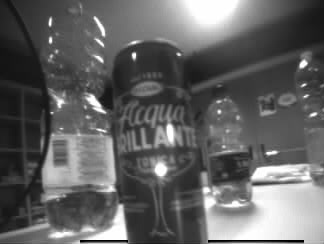Bottle: (35, 1, 117, 230), (206, 85, 254, 206), (295, 52, 324, 179)
Tin can: (109, 39, 212, 244)
